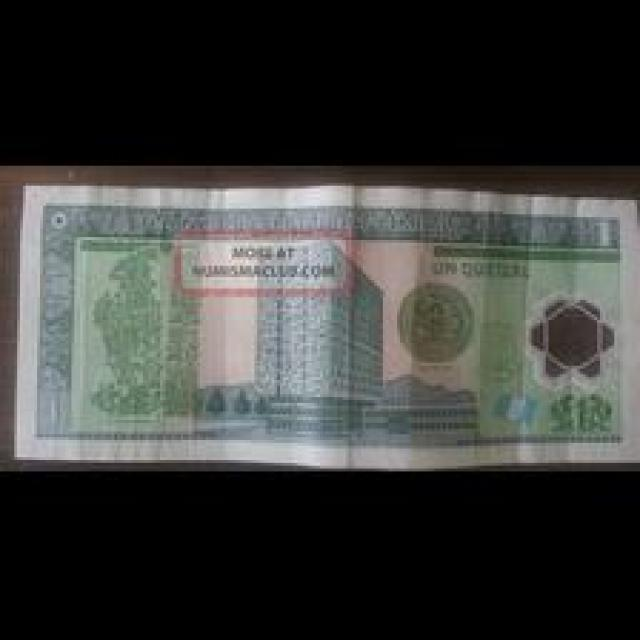banknote: (0, 168, 637, 472)
